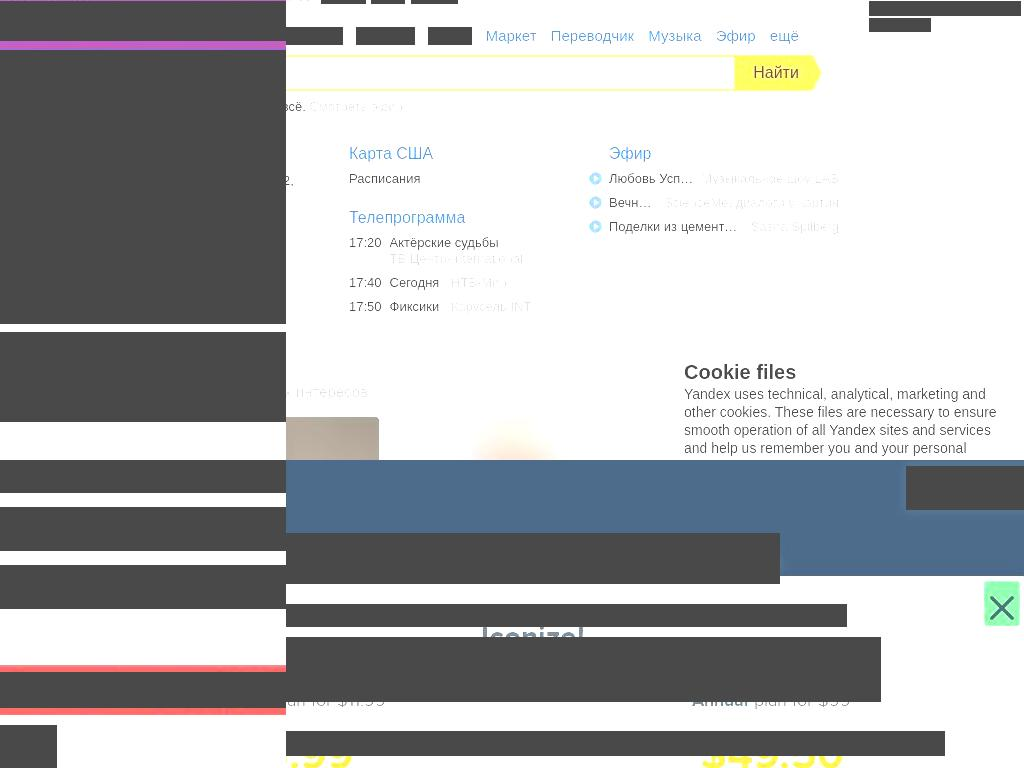button: (797, 361, 988, 396), (118, 264, 286, 300), (906, 466, 1024, 510), (16, 50, 101, 110), (100, 50, 177, 110), (0, 264, 105, 300), (734, 55, 822, 92), (609, 219, 751, 236), (609, 171, 701, 188), (550, 27, 634, 45), (892, 451, 1024, 460), (356, 27, 415, 45), (286, 27, 343, 45), (648, 27, 703, 45), (485, 27, 537, 45), (609, 195, 664, 212), (428, 27, 472, 45), (715, 27, 756, 45), (769, 27, 799, 45), (914, 456, 1004, 460)
field: (286, 637, 881, 702), (286, 55, 734, 92), (0, 188, 286, 240)
heading: (371, 604, 847, 627), (0, 134, 286, 164), (349, 209, 465, 227), (286, 604, 372, 627), (349, 145, 396, 163), (609, 145, 651, 163), (396, 145, 434, 163)
iframe: (0, 332, 286, 422)
image: (0, 50, 286, 324), (0, 50, 286, 324), (609, 171, 839, 187), (609, 195, 839, 211), (609, 219, 839, 235), (696, 55, 723, 92)
link: (0, 565, 286, 609), (0, 1, 286, 41), (0, 672, 286, 708), (664, 195, 840, 212), (49, 1, 174, 20), (701, 171, 840, 188), (389, 251, 523, 267), (389, 235, 498, 251), (139, 507, 221, 527), (750, 219, 839, 236), (450, 299, 531, 315), (349, 171, 420, 187), (232, 473, 286, 493), (451, 275, 507, 291), (389, 275, 439, 291), (389, 299, 439, 315), (321, 0, 366, 4)
text: (684, 386, 997, 460), (286, 731, 945, 756), (0, 507, 286, 551), (577, 533, 780, 584), (684, 359, 1014, 385), (409, 533, 577, 584), (286, 533, 409, 584), (0, 565, 286, 585), (131, 265, 286, 299), (945, 466, 1024, 510), (0, 265, 92, 299), (734, 55, 813, 92), (0, 507, 139, 527), (837, 378, 978, 395), (869, 1, 1021, 16), (609, 219, 743, 236), (837, 363, 978, 379), (173, 1, 286, 20), (286, 381, 368, 403), (609, 171, 693, 188), (349, 235, 382, 268), (309, 99, 368, 115), (120, 69, 161, 91), (869, 18, 931, 32), (609, 195, 656, 212), (367, 99, 404, 115), (349, 275, 382, 292), (349, 299, 382, 316), (286, 99, 309, 115), (371, 0, 405, 4), (411, 0, 445, 4), (290, 172, 295, 188), (444, 0, 458, 4)
